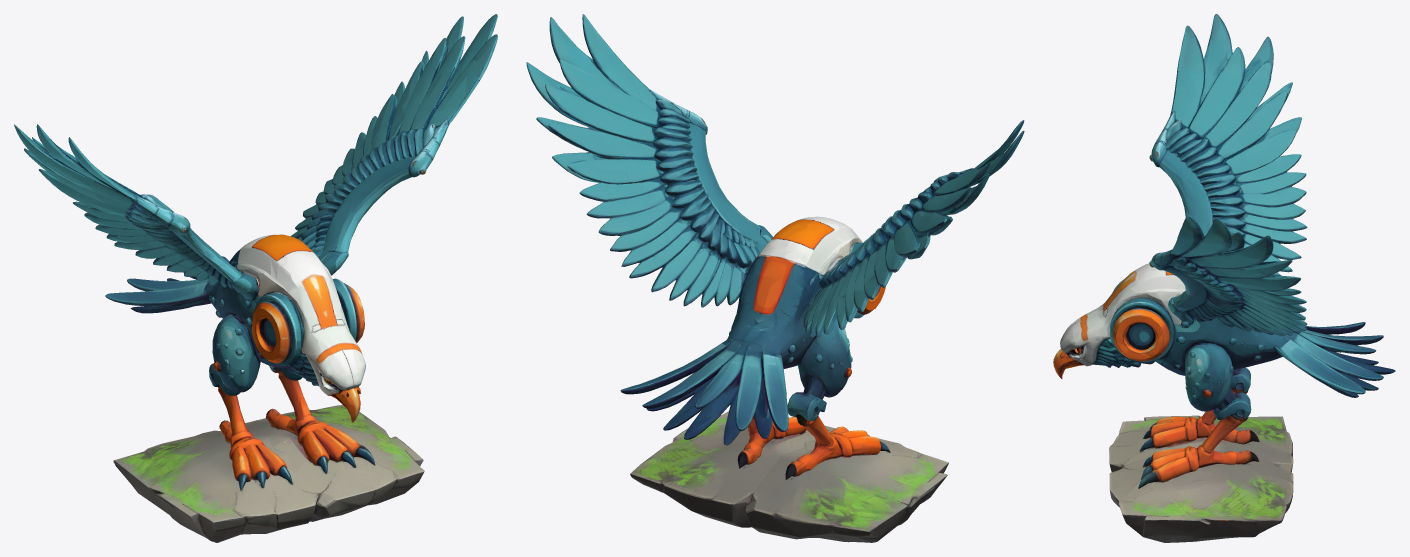
The model's file is mount-sky-hawk-mesh.glb.
The picture shows the model from 3 angles, left to right: view 1: azimuth 30°, elevation 25°; view 2: azimuth 150°, elevation 25°; view 3: azimuth 270°, elevation 25°; orthographic projection. The views are drawn at different scales.
Parts seen in each view (by area): view 1: Mesh_0; view 2: Mesh_0; view 3: Mesh_0.
Boxes of the visible parts, <box> form: Mesh_0: <box>14,14,497,542</box>; Mesh_0: <box>526,14,1024,542</box>; Mesh_0: <box>1053,14,1395,542</box>.
Size of the model in its own units: 1.9 by 1.77 by 1.36.
Materials: 1 (1 with a texture image).
